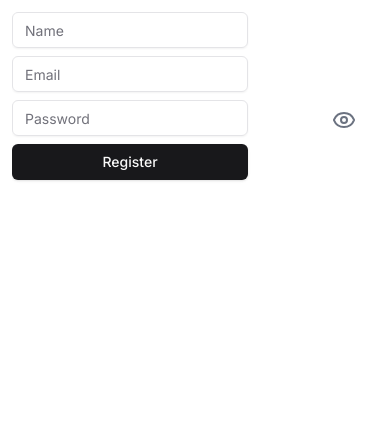
Test case: UserForm › handles register submission
Step 1. Type "John Doe" into the field with placeholder "Name" → [130, 30], box [12, 12, 248, 48]
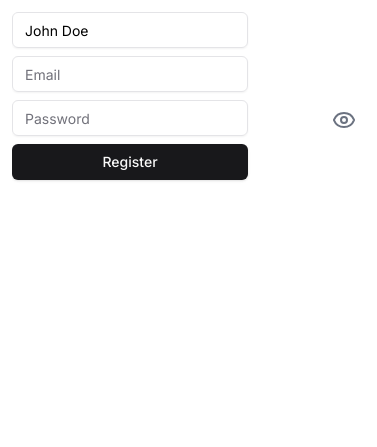
Step 2. Type "john@example.com" into the field with placeholder "Email" → [130, 74], box [12, 56, 248, 92]
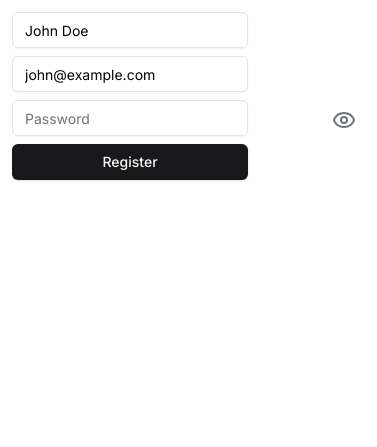
Step 3. Type "password123" into the password field with placeholder "Password" → [130, 118], box [12, 100, 248, 136]
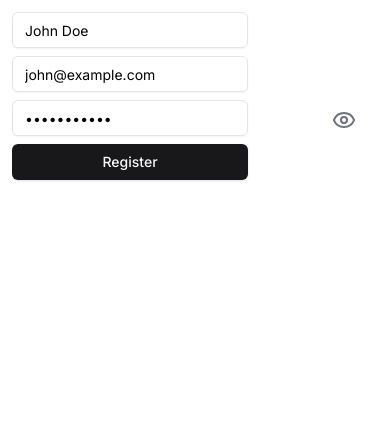
Step 4. Click the button "Register" → [130, 162], box [12, 144, 248, 180]
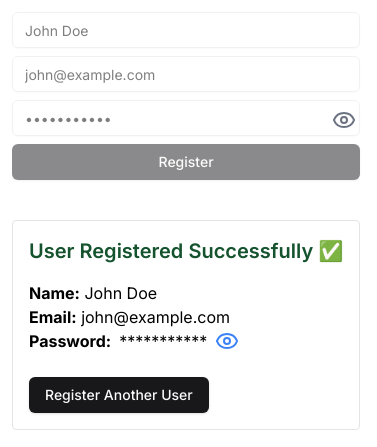
Now the heading "User Registered Successfully ✅" is shown, box [29, 237, 343, 265]
